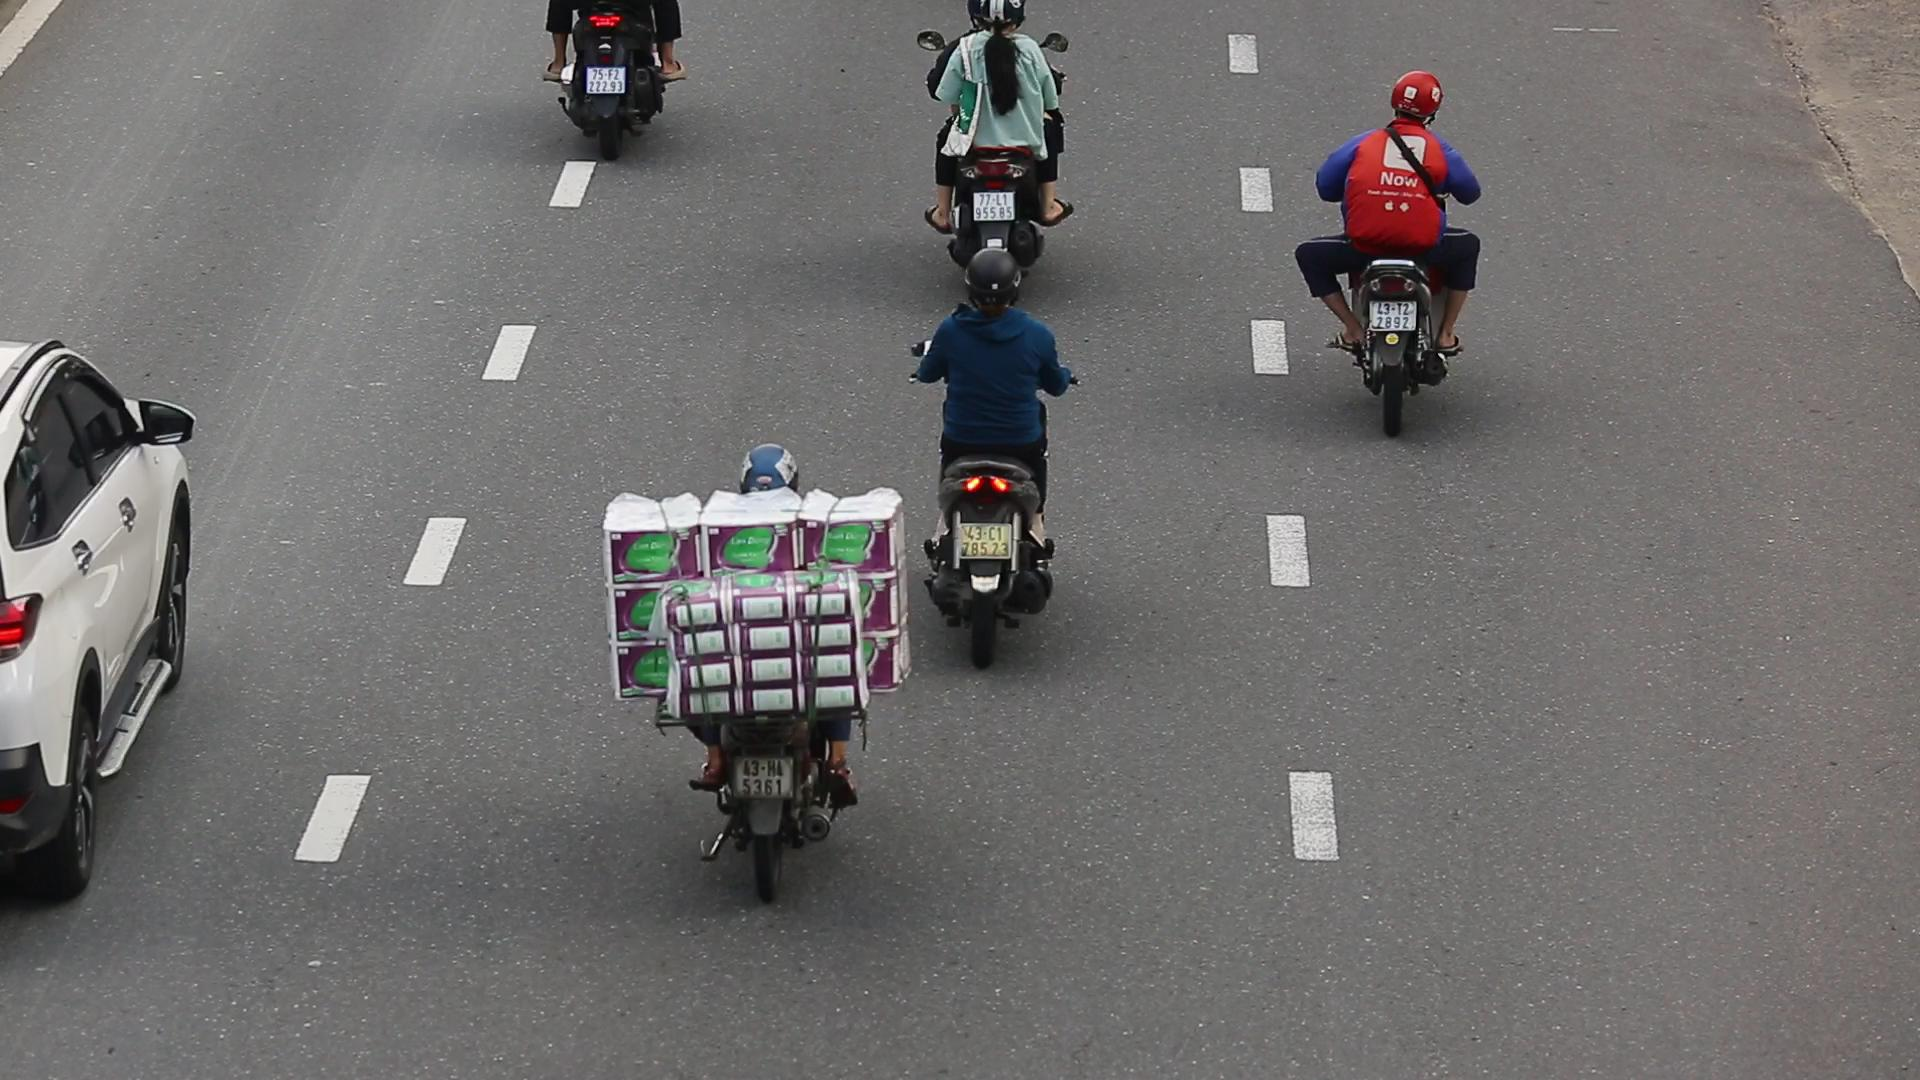motobike: (597, 436, 914, 927), (909, 241, 1089, 667), (1304, 58, 1498, 439), (919, 3, 1089, 287)
